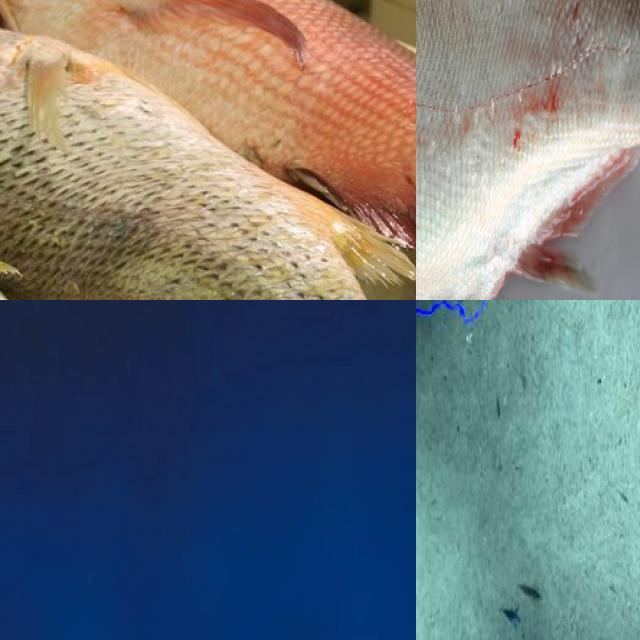fish: (0, 0, 416, 300), (257, 300, 416, 640)
